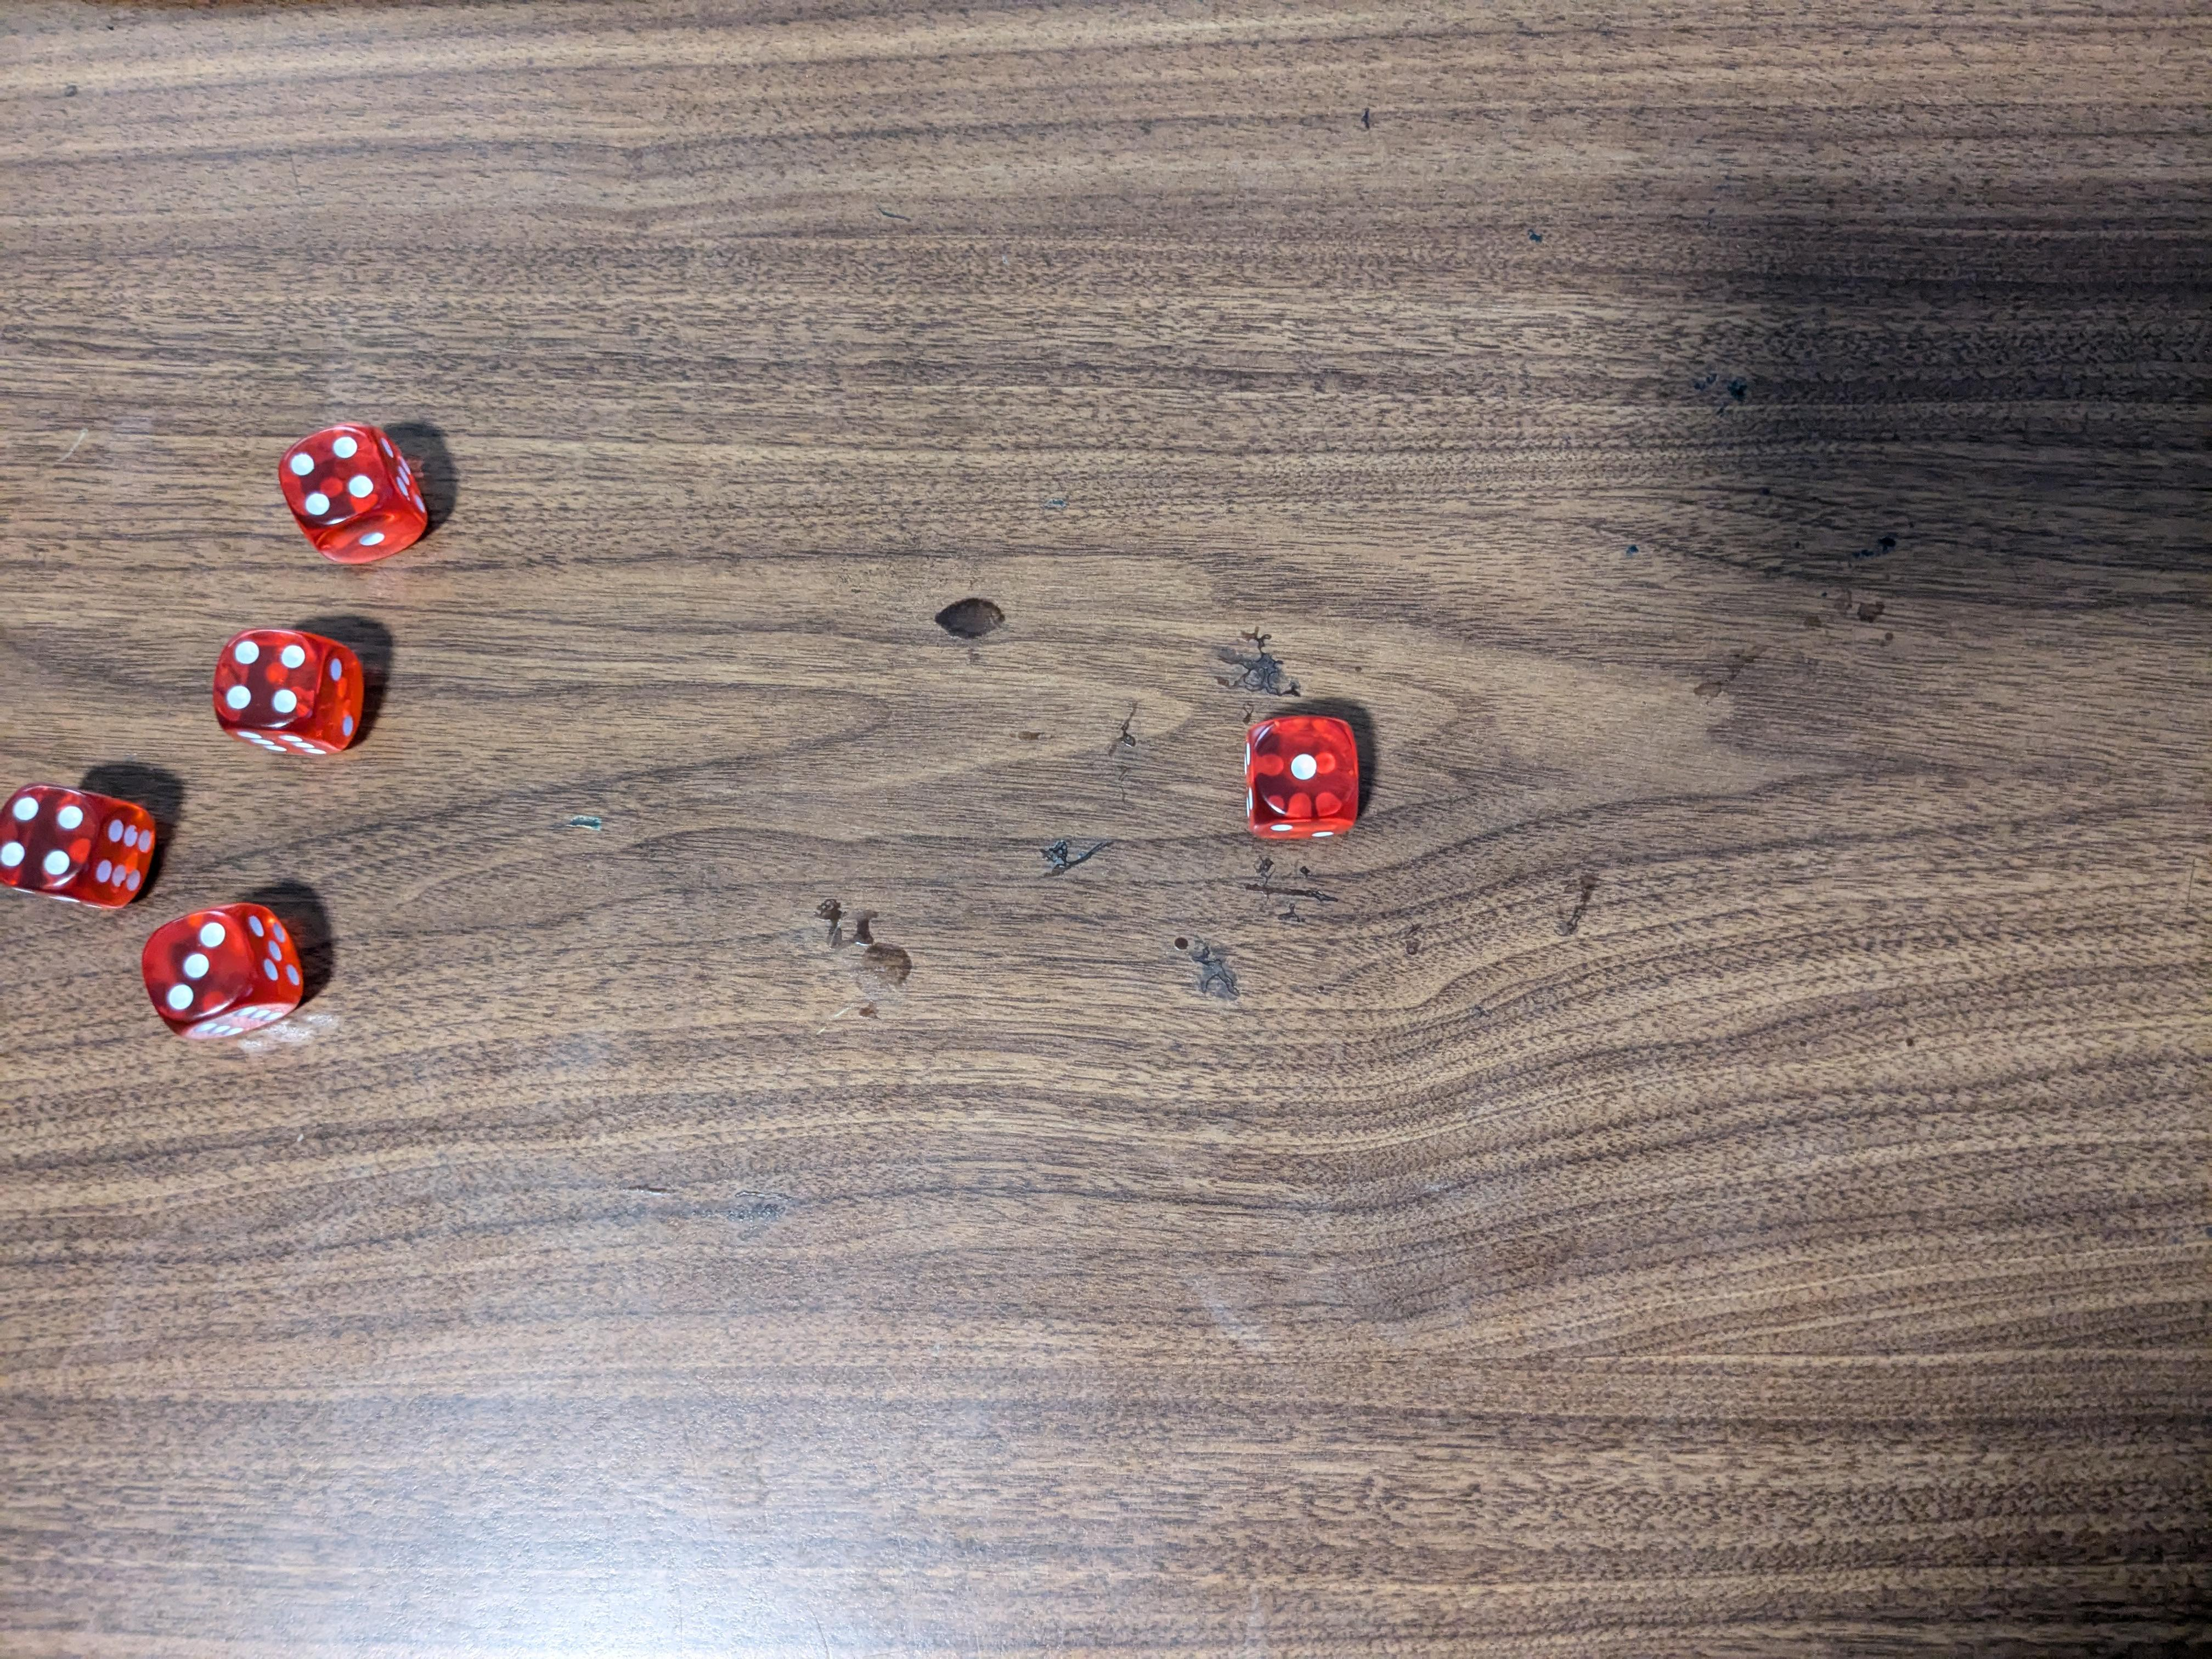four: (275, 418, 432, 570), (207, 633, 380, 755), (0, 786, 157, 915)
one: (1235, 711, 1367, 845)
three: (136, 903, 308, 1053)
